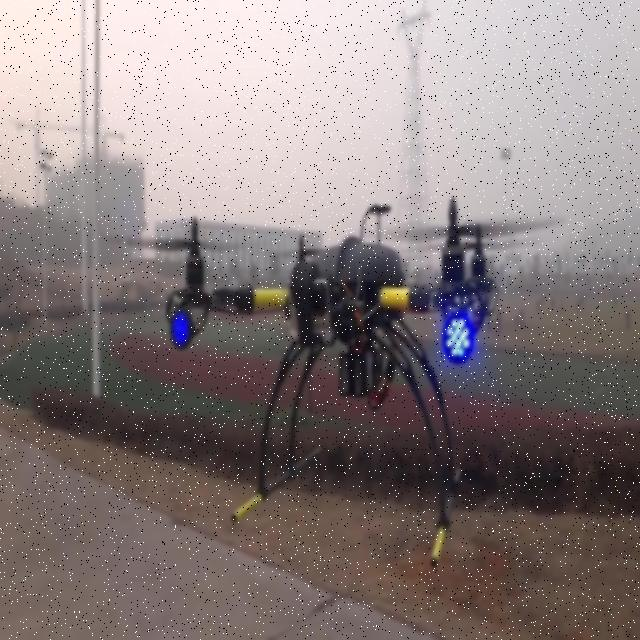UAV: (123, 198, 546, 569)
